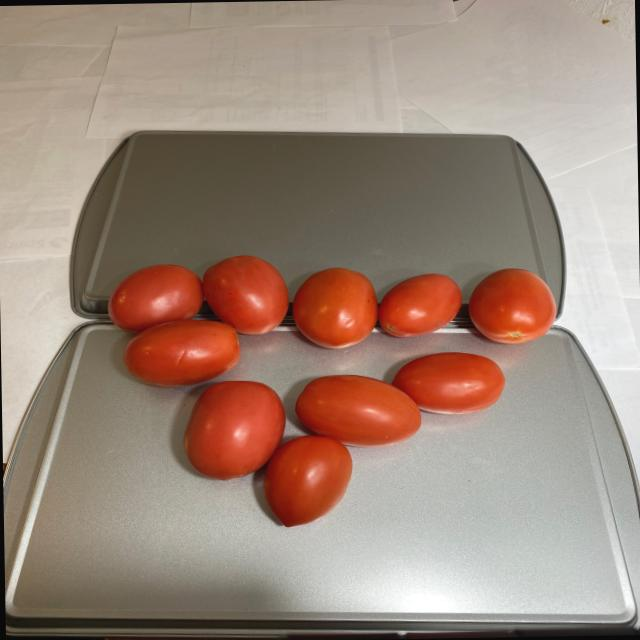tomato: (105, 248, 558, 538)
